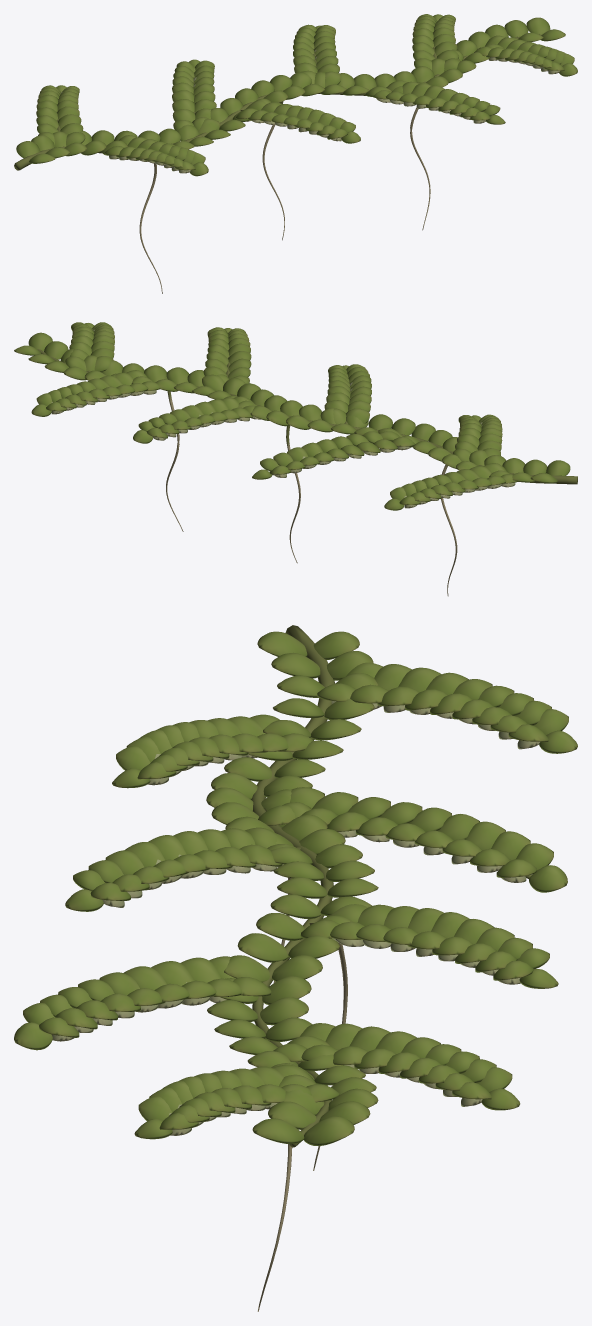
3 views of the same model, one above another, from view 1: azimuth 30°, elevation 25°; view 2: azimuth 150°, elevation 25°; view 3: azimuth 270°, elevation 25° (orthographic). The views are drawn at different scales.
Visible parts, largest first — view 1: Azolla whole art branching reconstruction; view 2: Azolla whole art branching reconstruction; view 3: Azolla whole art branching reconstruction.
Boxes of the visible parts, x1,y1,x2,y2 form: Azolla whole art branching reconstruction: (14, 14, 577, 293); Azolla whole art branching reconstruction: (14, 322, 577, 596); Azolla whole art branching reconstruction: (14, 625, 577, 1311).
Bounding box in the file's own units: 0.18 × 0.0533 × 0.0828.
